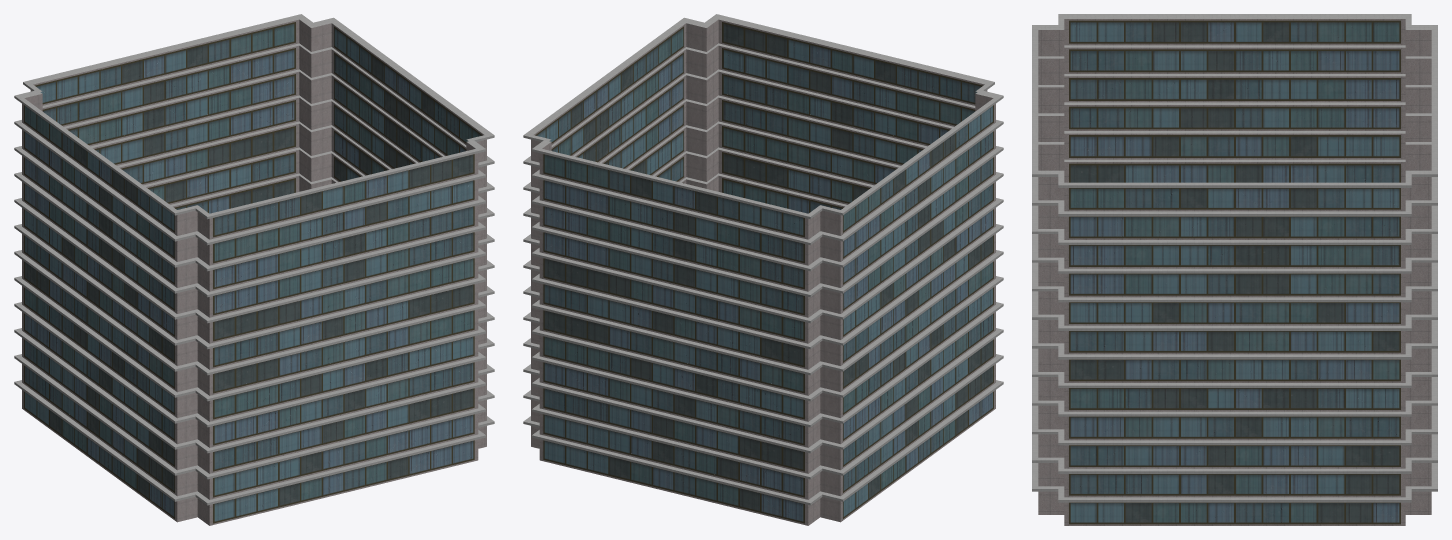
File: jctBld50E_top_low.fbx
3 views of the same model, side by side, from view 1: azimuth 30°, elevation 25°; view 2: azimuth 150°, elevation 25°; view 3: azimuth 270°, elevation 25° (orthographic). The views are drawn at different scales.
Visible parts, largest first — view 1: jctBld50E_top_low; view 2: jctBld50E_top_low; view 3: jctBld50E_top_low.
Boxes of the visible parts, <box> form: jctBld50E_top_low: <box>14,14,494,525</box>; jctBld50E_top_low: <box>523,14,1003,525</box>; jctBld50E_top_low: <box>1032,14,1437,525</box>.
Bounding box in the file's own units: 4500 × 4200 × 4500.
